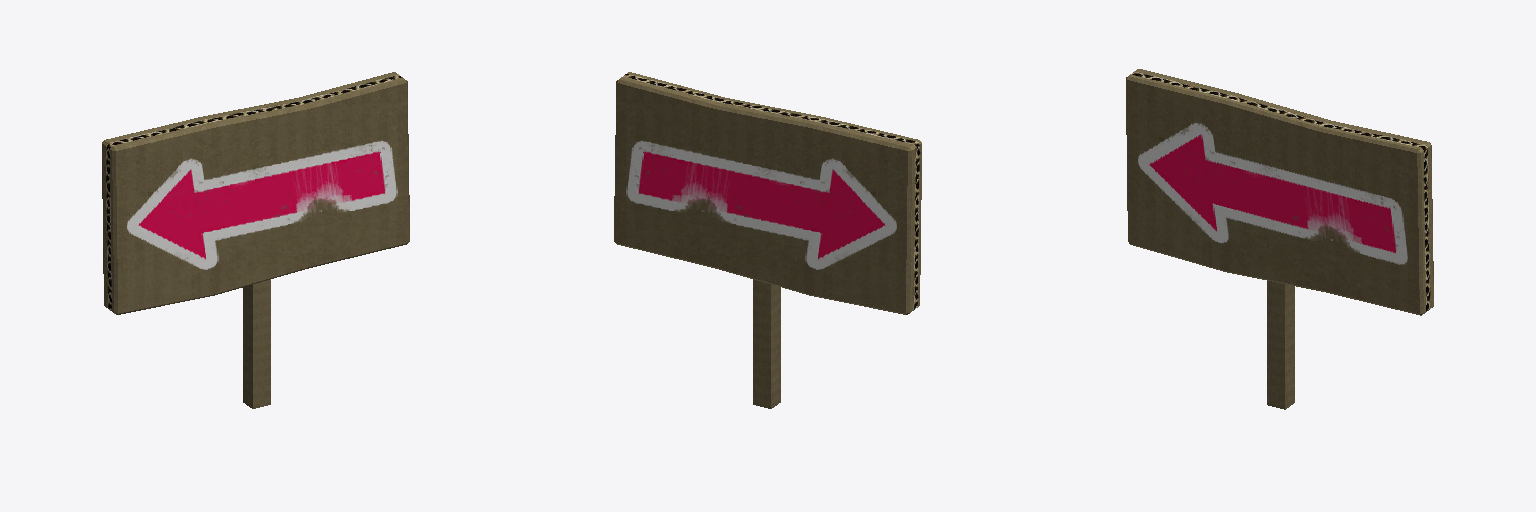
The picture shows the model from 3 angles: view 1: azimuth 30°, elevation 25°; view 2: azimuth 150°, elevation 25°; view 3: azimuth 330°, elevation 25°; orthographic projection.
Visible parts, largest first — view 1: submesh_0; view 2: submesh_0; view 3: submesh_0.
Boxes of the visible parts, x1=… form: submesh_0: x1=102, y1=72, x2=409, y2=408; submesh_0: x1=614, y1=72, x2=921, y2=408; submesh_0: x1=1126, y1=69, x2=1433, y2=409.
Size of the model in its own units: 3.77 by 3.58 by 0.2902.
1 materials, 1 textured.